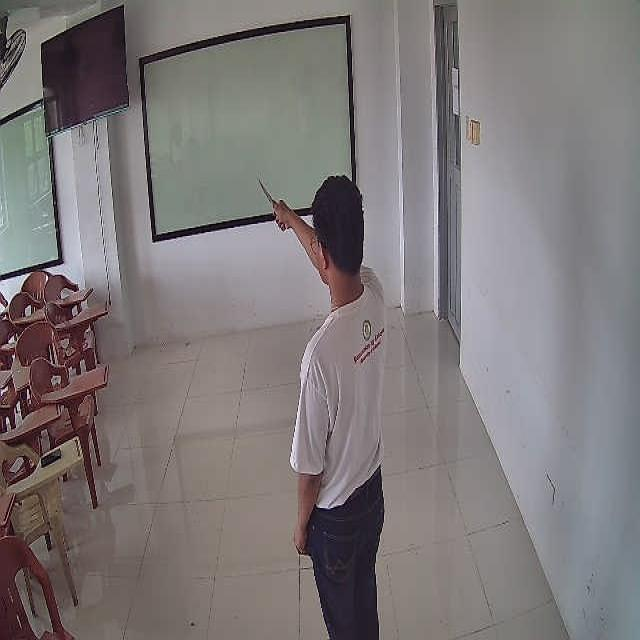knife: (258, 179, 273, 204)
